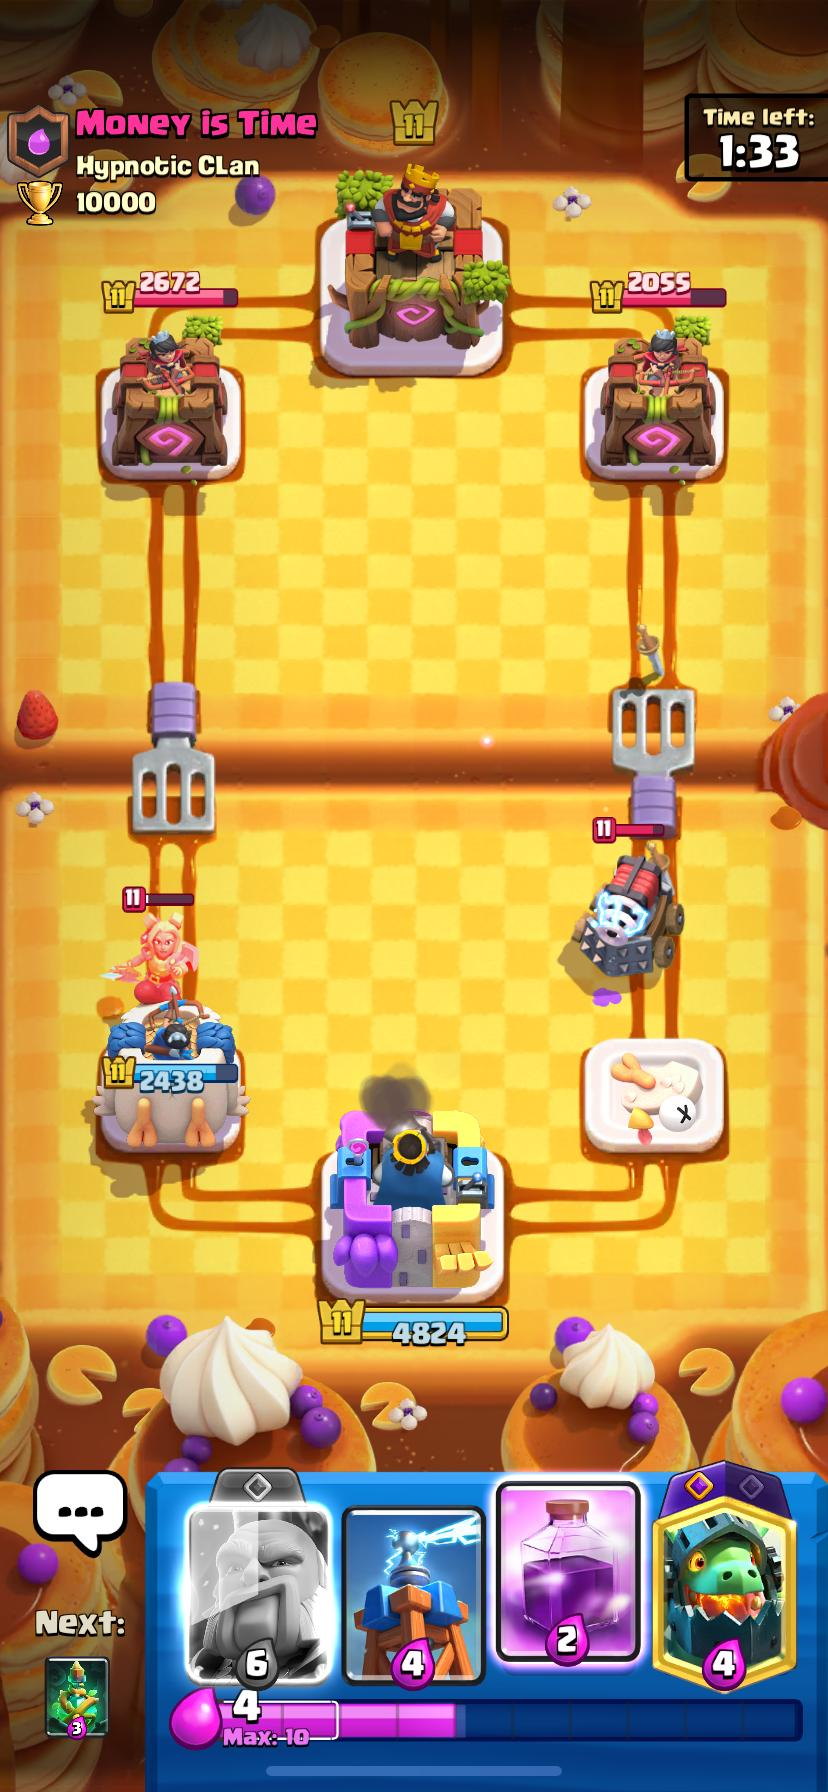EKingTower: (343, 166, 509, 352)
ESparky: (573, 853, 683, 977)
ESpritEmpWalk: (103, 911, 198, 1003)
EnemyPrincessTower: (112, 330, 226, 474), (600, 329, 712, 472)
OwnKingTower: (321, 1112, 503, 1306)
OwnPrincessTower: (95, 990, 247, 1151)
TowerDown: (583, 1037, 725, 1157)
